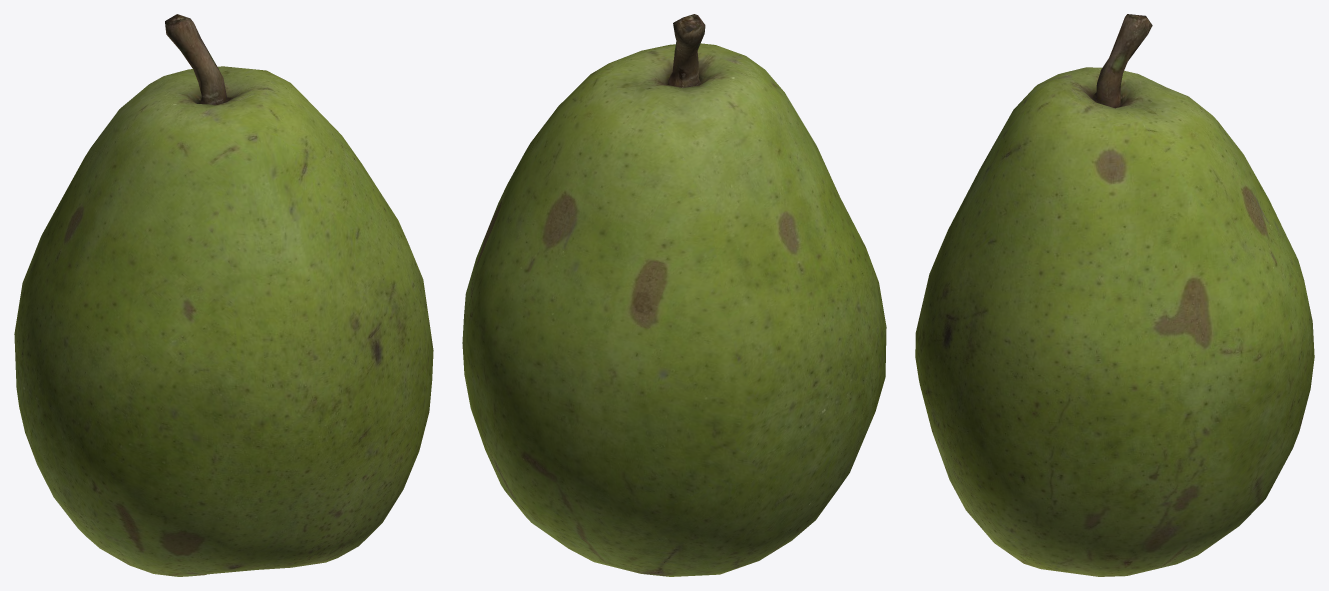
File: GreenFruitPear.fbx
3 renders of one model, left to right at view 1: azimuth 30°, elevation 25°; view 2: azimuth 150°, elevation 25°; view 3: azimuth 270°, elevation 25°, orthographic. The views are drawn at different scales.
Visible parts, largest first — view 1: Pear; view 2: Pear; view 3: Pear.
Part boxes in pixels (left/top/right/bottom): Pear: left=14, top=14, right=433, bottom=576; Pear: left=462, top=14, right=886, bottom=576; Pear: left=915, top=14, right=1314, bottom=576.
Size of the model in its own units: 0.0829 by 0.0825 by 0.1178.
Materials: 1 (1 with a texture image).
